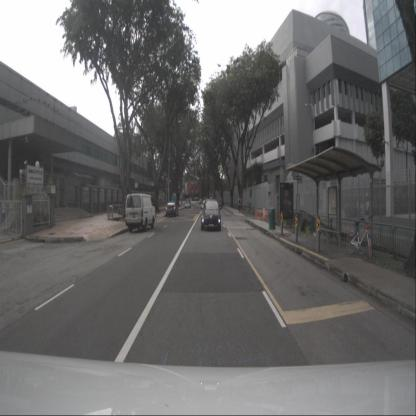human-pedestrian-adult: (238, 196, 241, 213)
vehicle-bicycle: (346, 214, 374, 260)
vehicle-car: (125, 193, 156, 233), (201, 199, 221, 231), (166, 201, 178, 217), (184, 199, 190, 208)
